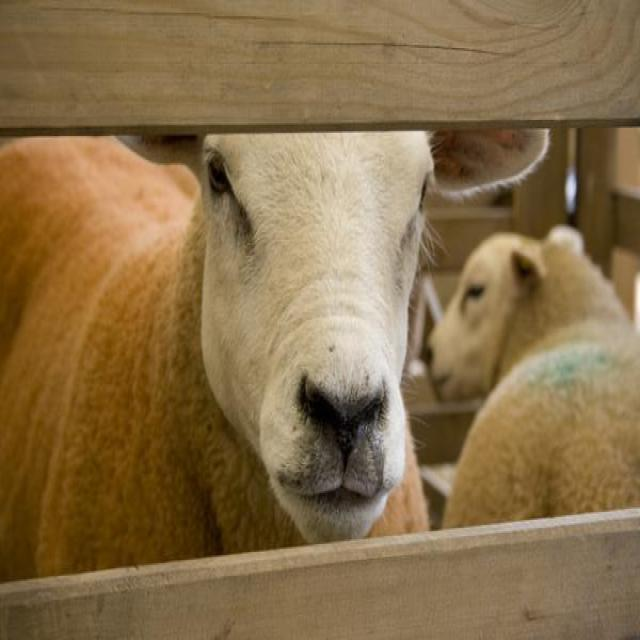Sheep: (1, 126, 552, 573), (424, 236, 638, 526)
